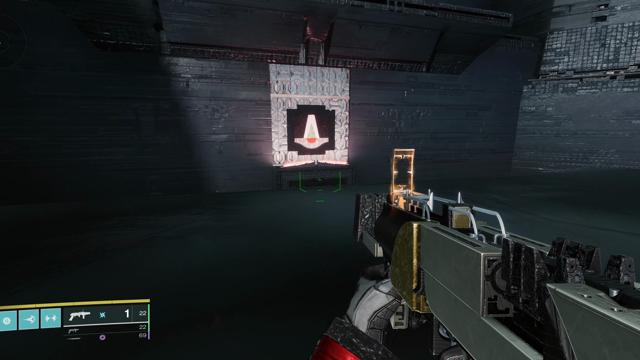enter: (293, 112, 330, 149)
